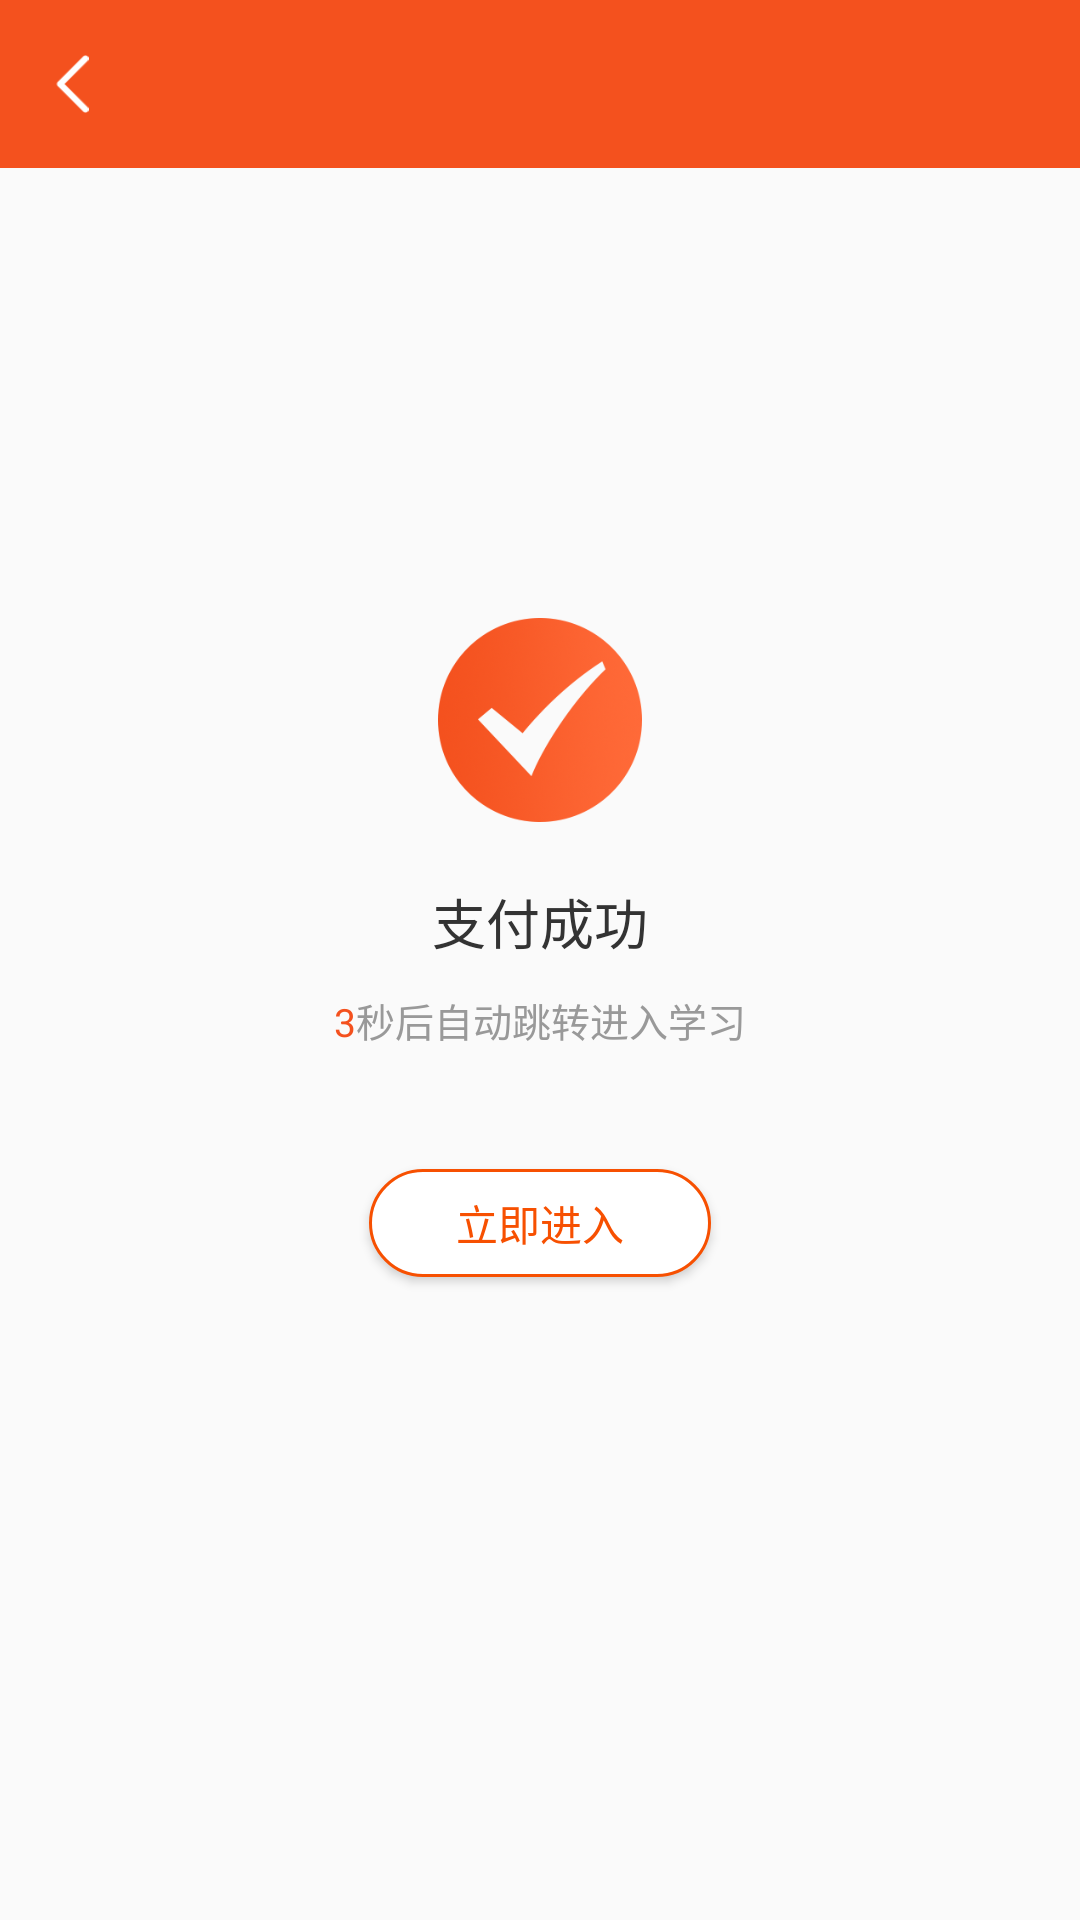

Where icons sit on this 1080px x 1920px app screen, as (x1, y1, x2, y2):
fanhui: (56, 55, 89, 113)
